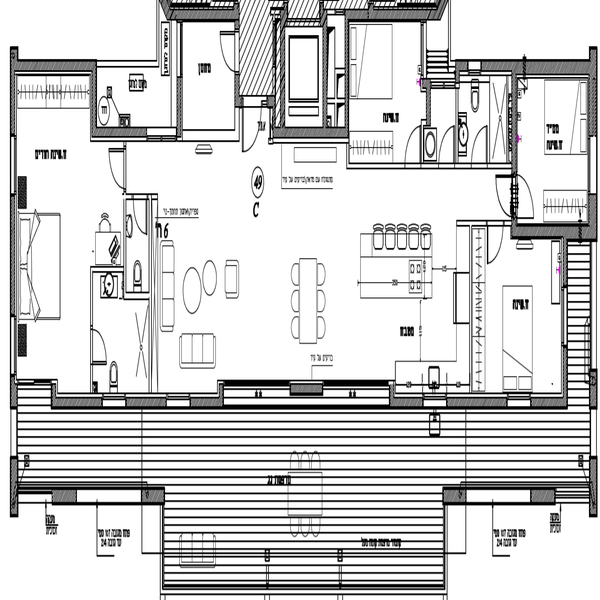door: (240, 94, 270, 150), (516, 172, 546, 224), (212, 28, 245, 74), (102, 146, 133, 188), (484, 221, 507, 271), (86, 325, 114, 366), (471, 123, 492, 175), (494, 170, 516, 216), (134, 195, 157, 236), (407, 124, 427, 170), (436, 127, 458, 167)
room: (515, 60, 600, 235), (5, 66, 102, 147)
wall: (459, 58, 597, 78), (6, 198, 25, 312), (508, 223, 597, 241), (12, 59, 97, 76), (163, 8, 237, 25), (270, 124, 345, 140), (89, 123, 142, 141), (448, 396, 510, 411), (50, 393, 100, 410), (588, 76, 600, 138), (291, 377, 326, 398), (126, 393, 165, 411), (528, 395, 567, 411), (139, 483, 164, 506), (529, 484, 556, 504), (588, 369, 600, 412), (50, 488, 79, 505), (443, 486, 467, 502), (191, 398, 228, 407)
